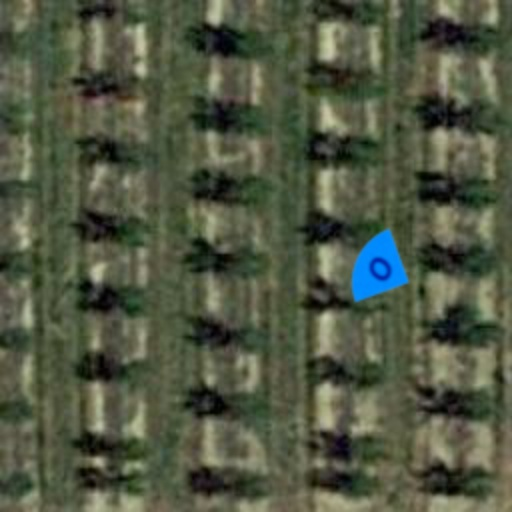quarter_circle: (326, 216, 430, 320)
